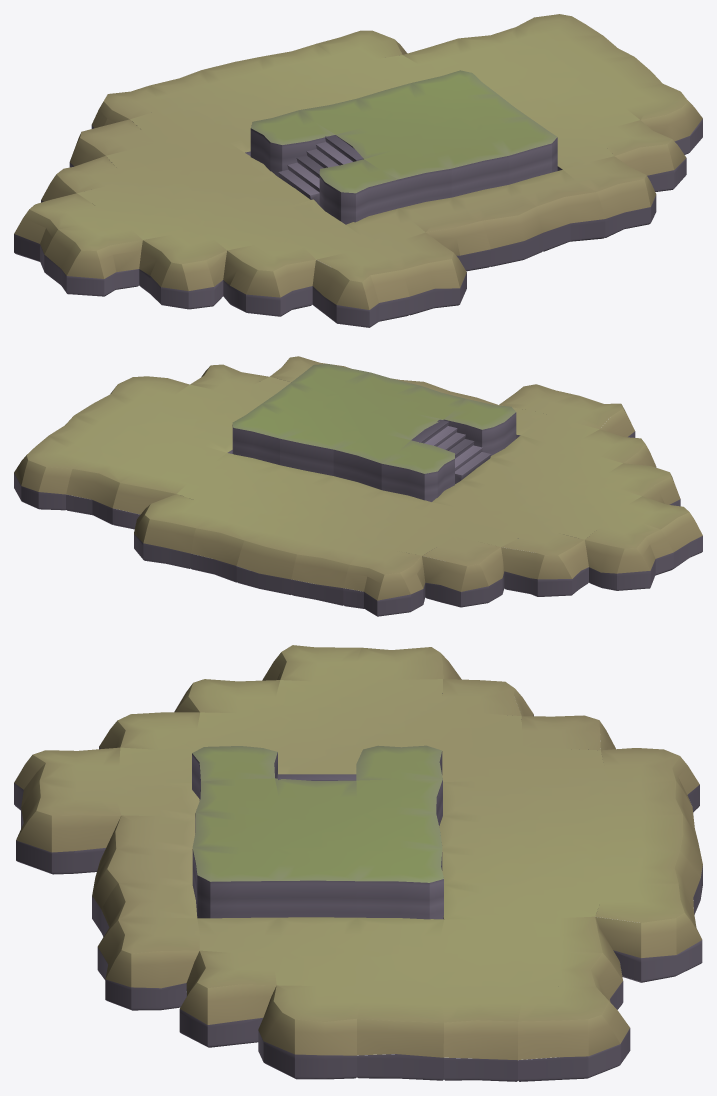
The model's file is island.glb.
3 renders of one model, top to bottom at view 1: azimuth 30°, elevation 25°; view 2: azimuth 150°, elevation 25°; view 3: azimuth 270°, elevation 25°, orthographic. The views are drawn at different scales.
Visible parts, largest first — view 1: island; view 2: island; view 3: island.
Boxes of the visible parts, x1,y1,x2,y2 form: island: (14,14,702,327); island: (14,356,702,616); island: (14,645,702,1081).
Bounding box in the file's own units: 23.18 × 2.41 × 17.09.
